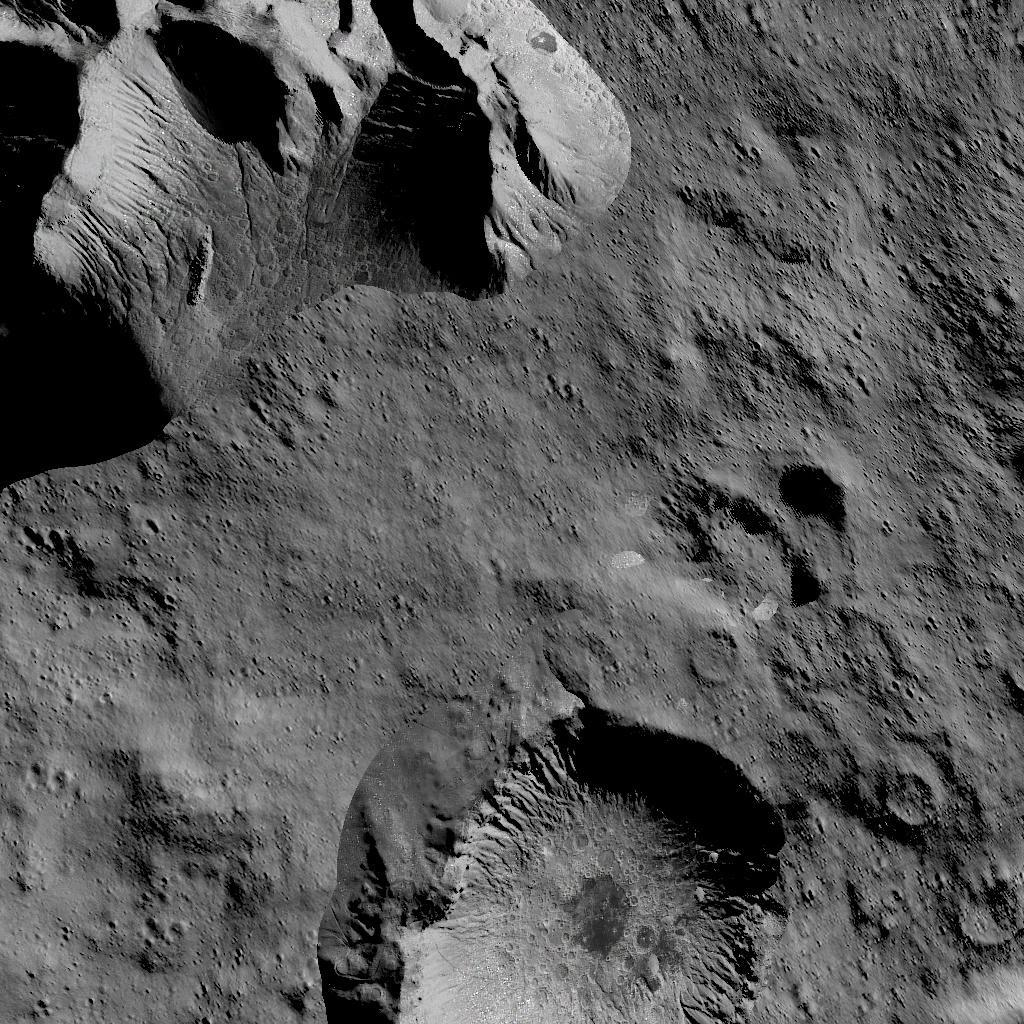Boulders: (0, 0, 626, 475)
Crater: (315, 702, 800, 1024), (682, 452, 868, 615), (927, 870, 1024, 954), (870, 758, 942, 839), (680, 628, 742, 690)
Plan surface: (639, 0, 1024, 441), (3, 484, 650, 690), (3, 696, 301, 1024)
